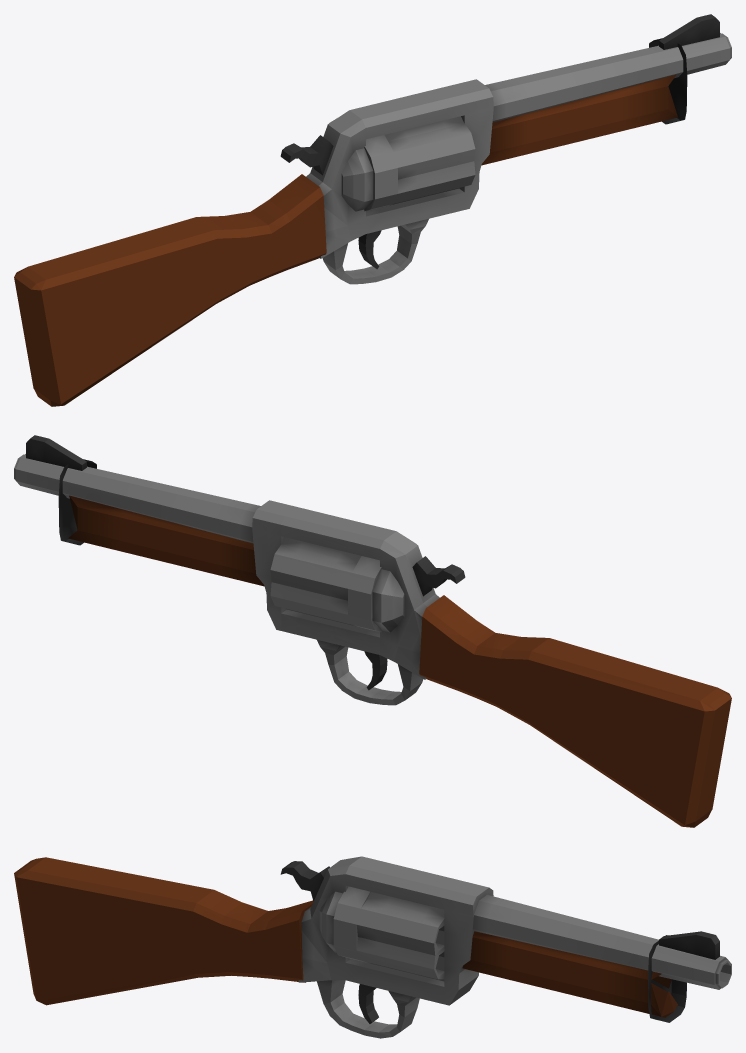
The model's file is v-revolver-rifles-short.glb.
3 renders of one model, top to bottom at view 1: azimuth 30°, elevation 25°; view 2: azimuth 150°, elevation 25°; view 3: azimuth 330°, elevation 25°, orthographic.
Parts seen in each view (by area): view 1: stock, receiver (×3), front (×3), grip; view 2: stock, receiver (×3), front (×3), grip; view 3: receiver (×3), stock, front (×3), grip (×2).
Part boxes in pixels (x1,y1,x2,y2): stock: [14, 187, 306, 406]; receiver (×3): [285, 68, 573, 263]; front (×3): [561, 14, 731, 142]; grip: [322, 225, 420, 284]; stock: [439, 608, 731, 827]; receiver (×3): [172, 489, 460, 684]; front (×3): [14, 435, 184, 563]; grip: [325, 646, 423, 705]; receiver (×3): [281, 856, 568, 1005]; stock: [14, 857, 302, 1005]; front (×3): [556, 916, 731, 1022]; grip (×2): [318, 980, 419, 1038].
Bounding box in the file's own units: 0.774 × 0.2345 × 0.0789.
